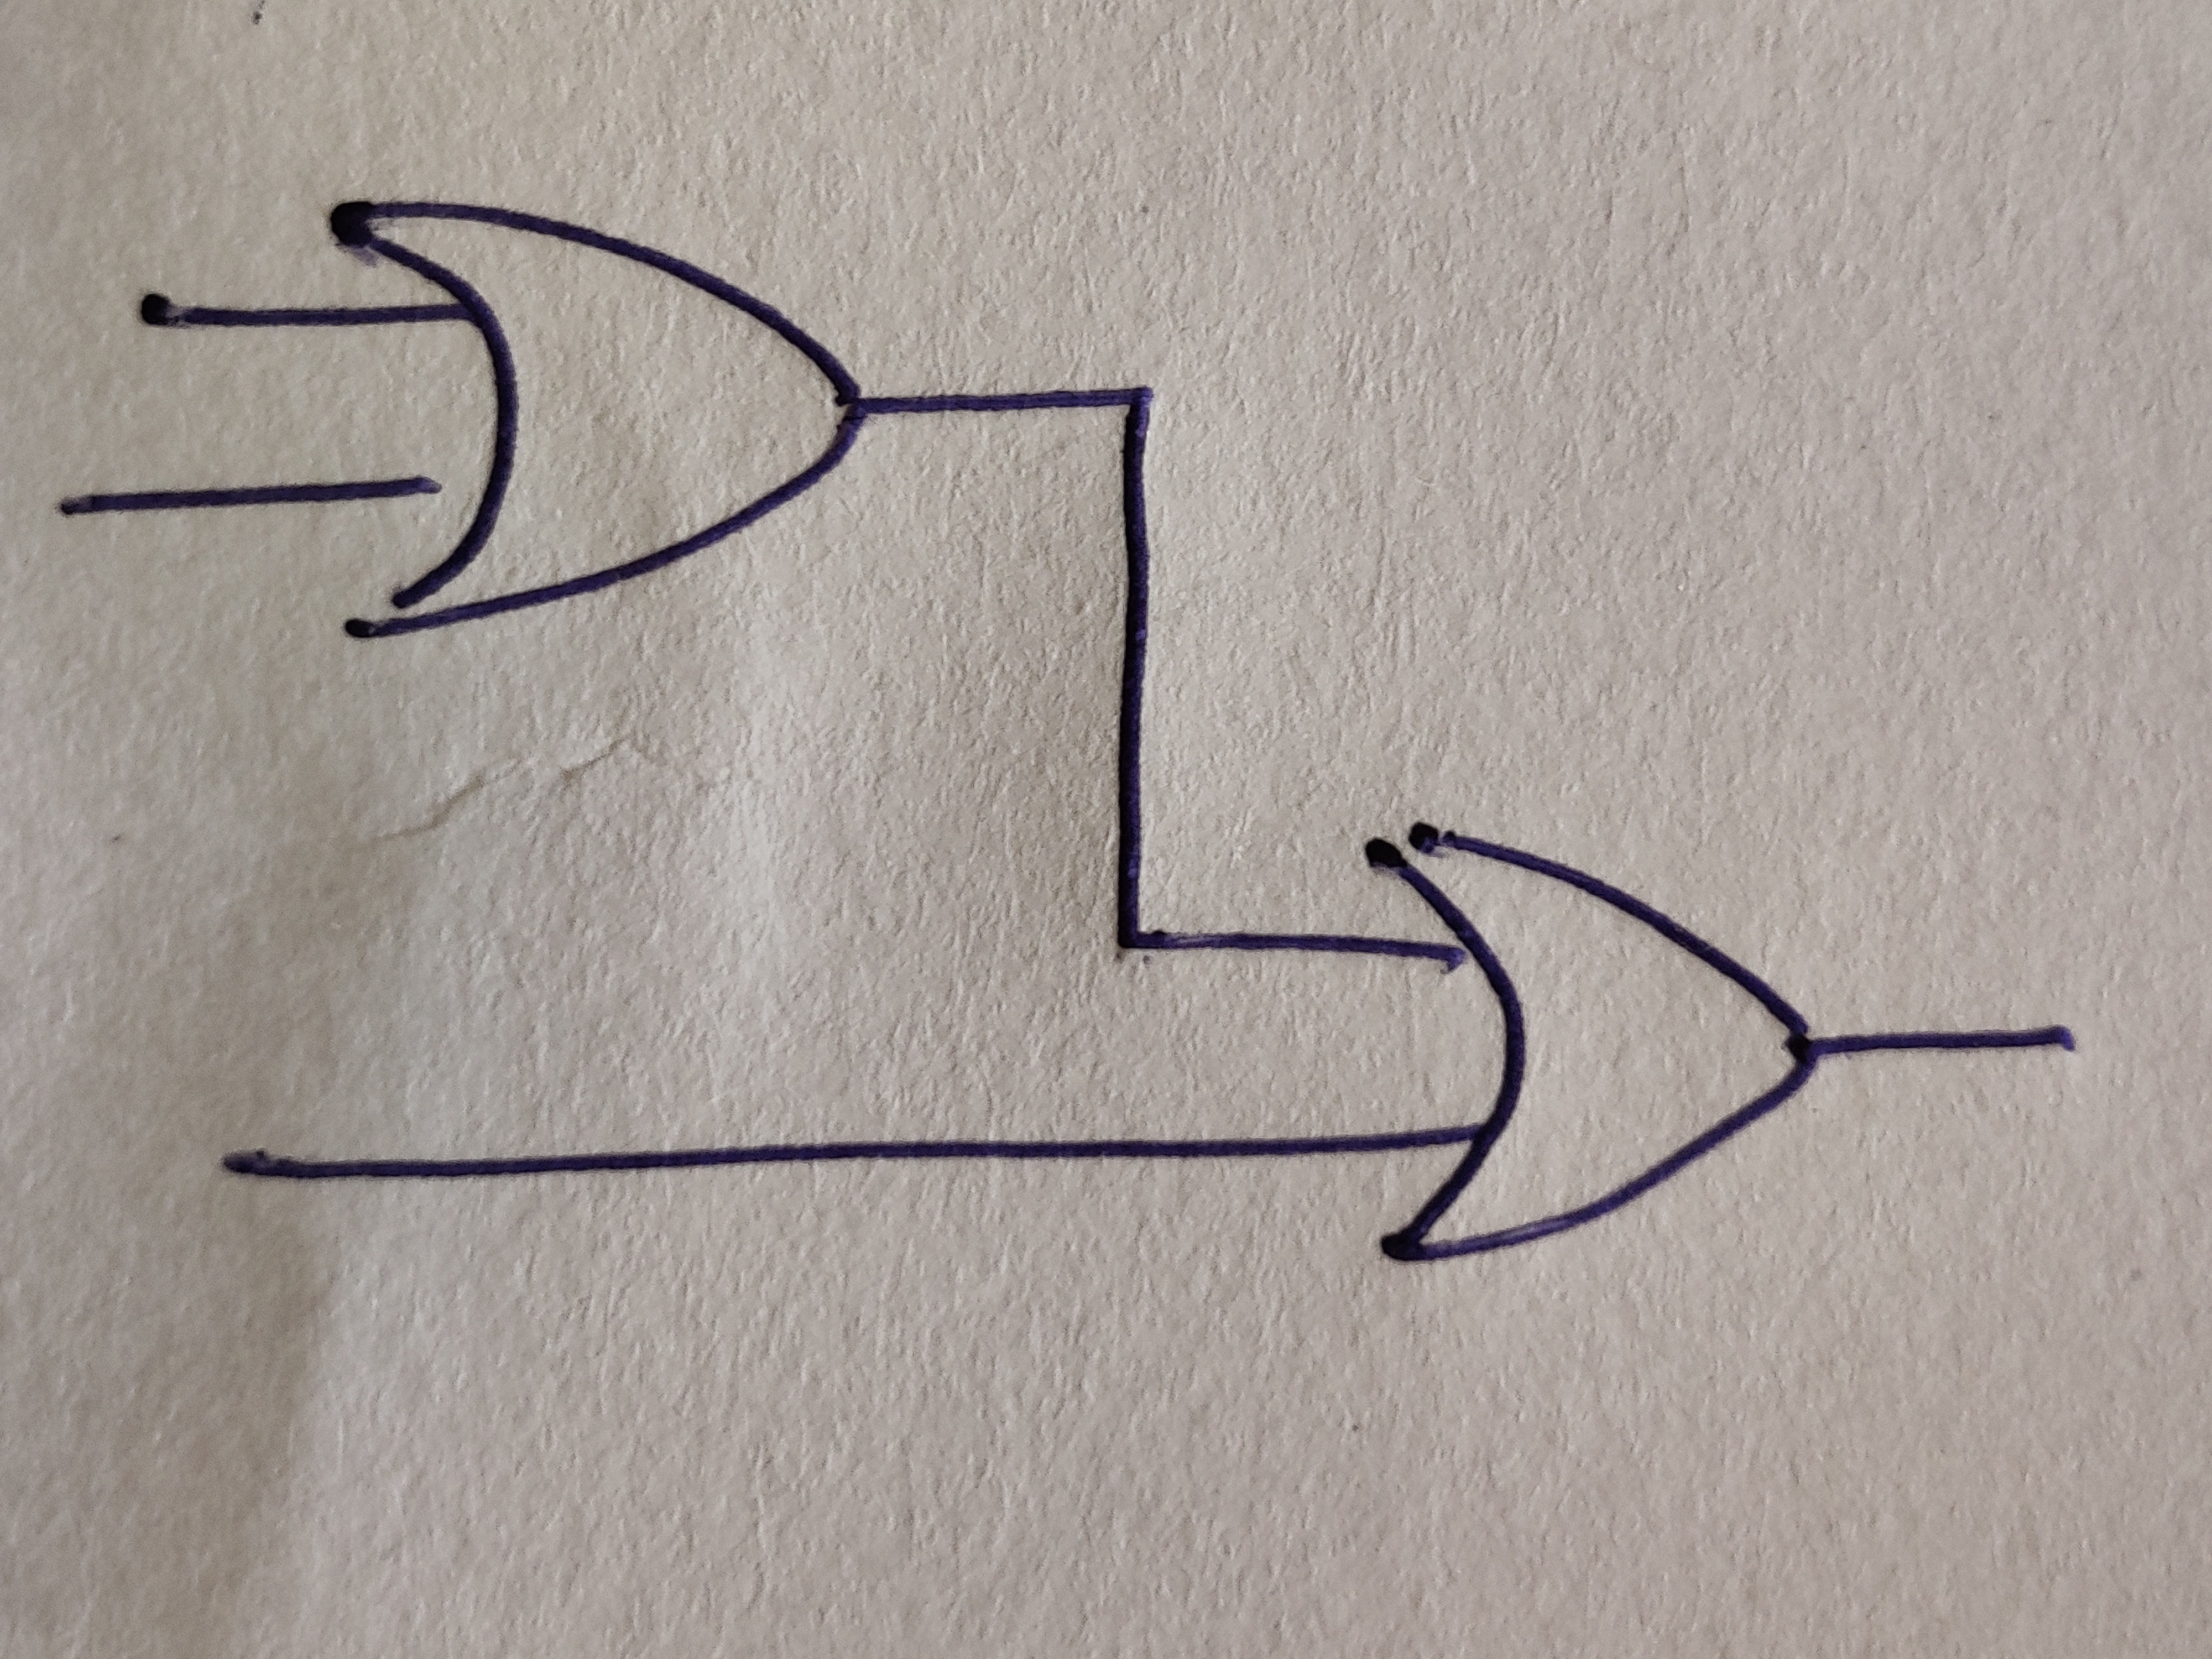or: (326, 199, 869, 638), (1364, 823, 1824, 1265)
